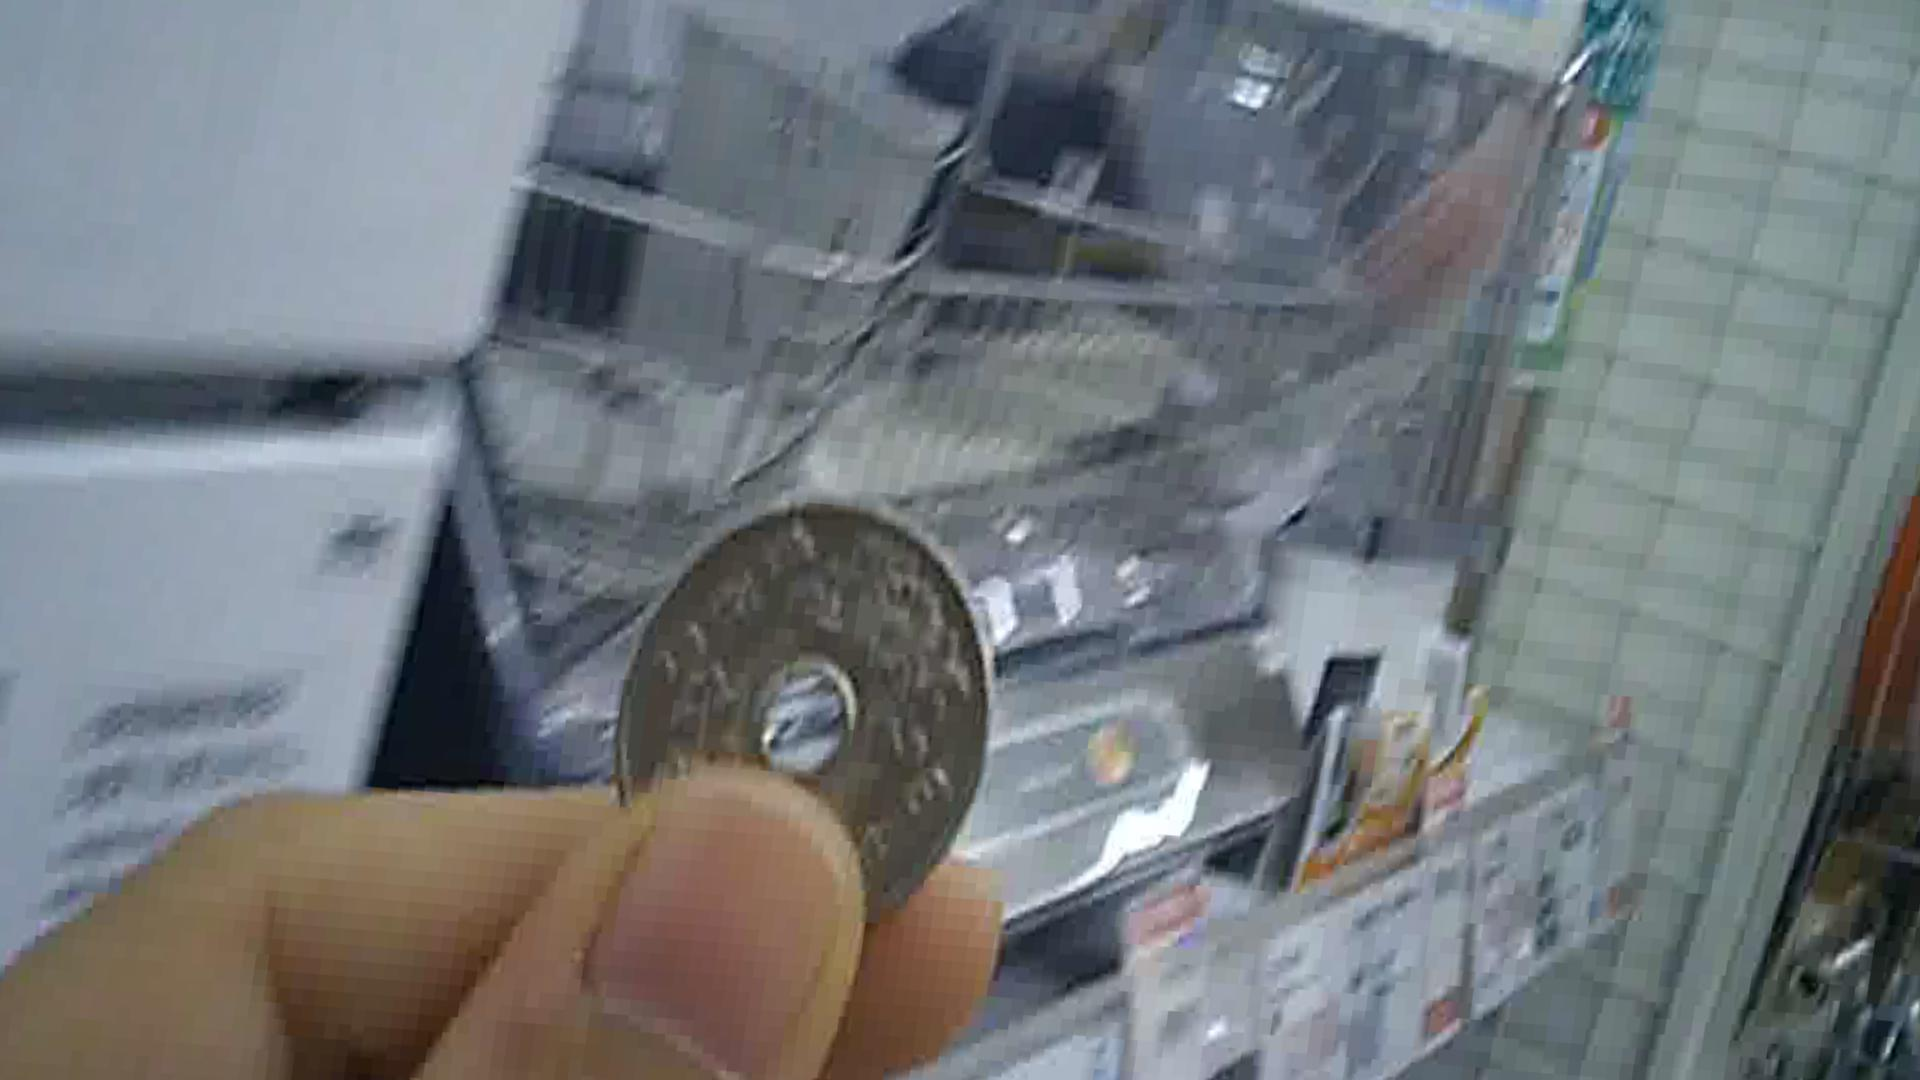50 Yen: (600, 504, 978, 928)
